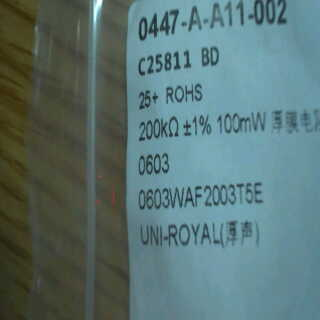200kR: (134, 113, 181, 147)
